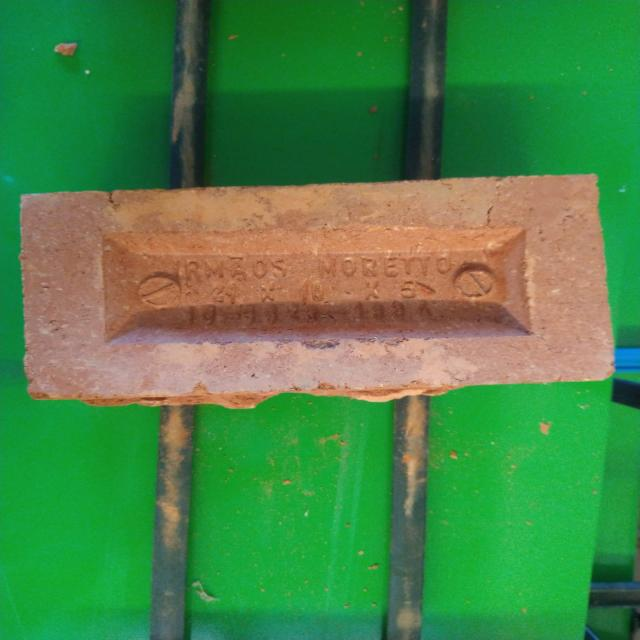bricks_ruin: (20, 173, 616, 411)
